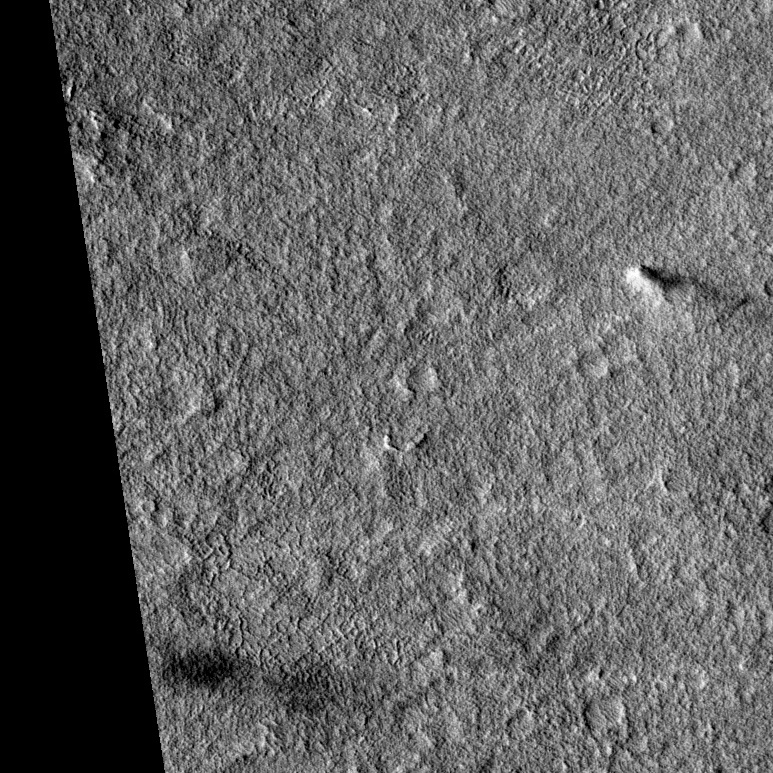dust_devil: (623, 261, 751, 314)
